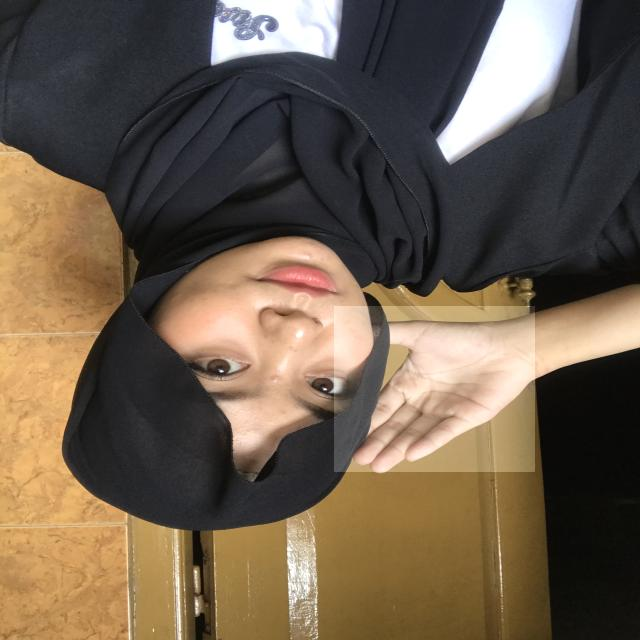mendengar: (334, 306, 535, 472)
